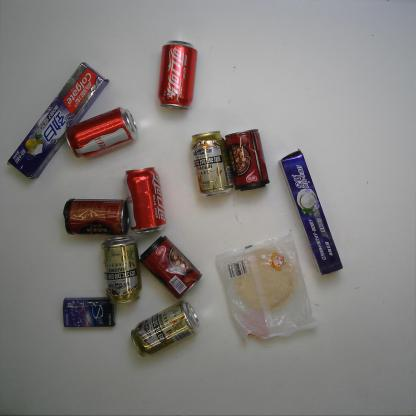Alcohol: (129, 299, 202, 361), (100, 232, 146, 308), (189, 126, 233, 201)
Canned Food: (137, 232, 204, 301), (223, 126, 272, 195), (61, 195, 132, 239)
Dessert: (212, 231, 321, 349)
Drink: (60, 102, 140, 164), (119, 162, 170, 237), (154, 36, 200, 112)
Gum: (59, 296, 119, 330)
Personal Hygiene: (6, 56, 110, 183), (276, 146, 351, 279)
